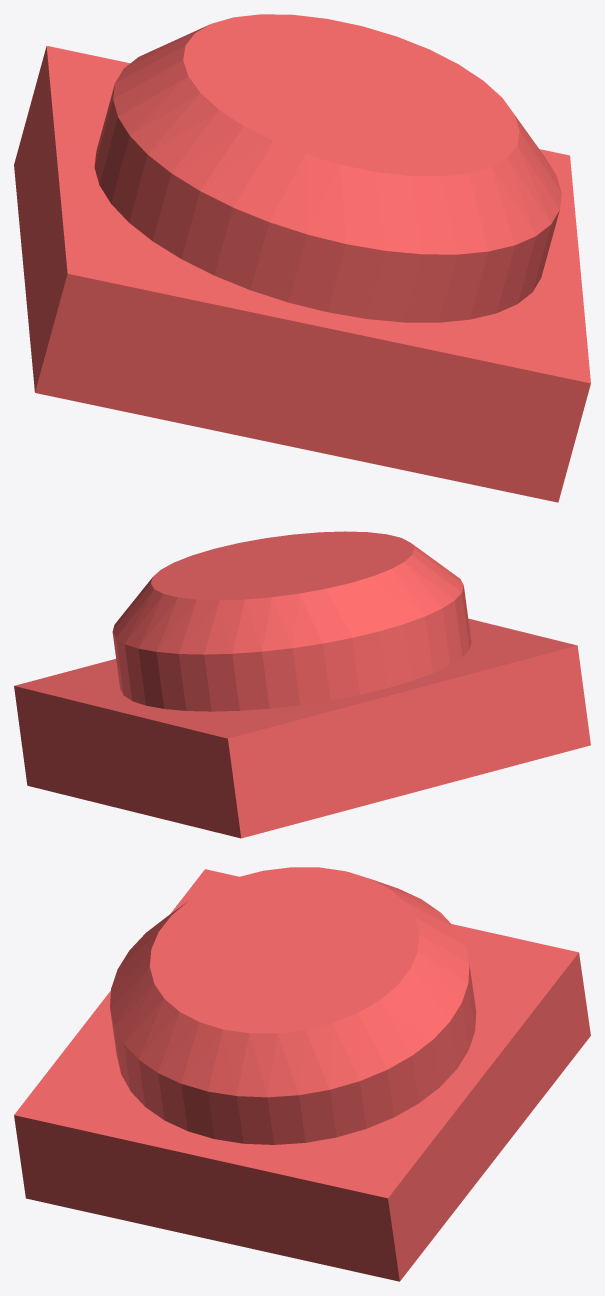
The model's file is tile_405.glb.
3 renders of one model, top to bottom at view 1: azimuth 30°, elevation 25°; view 2: azimuth 150°, elevation 25°; view 3: azimuth 270°, elevation 25°, orthographic. The views are drawn at different scales.
Size of the model in its own units: 0.1929 by 0.0957 by 0.1911.
